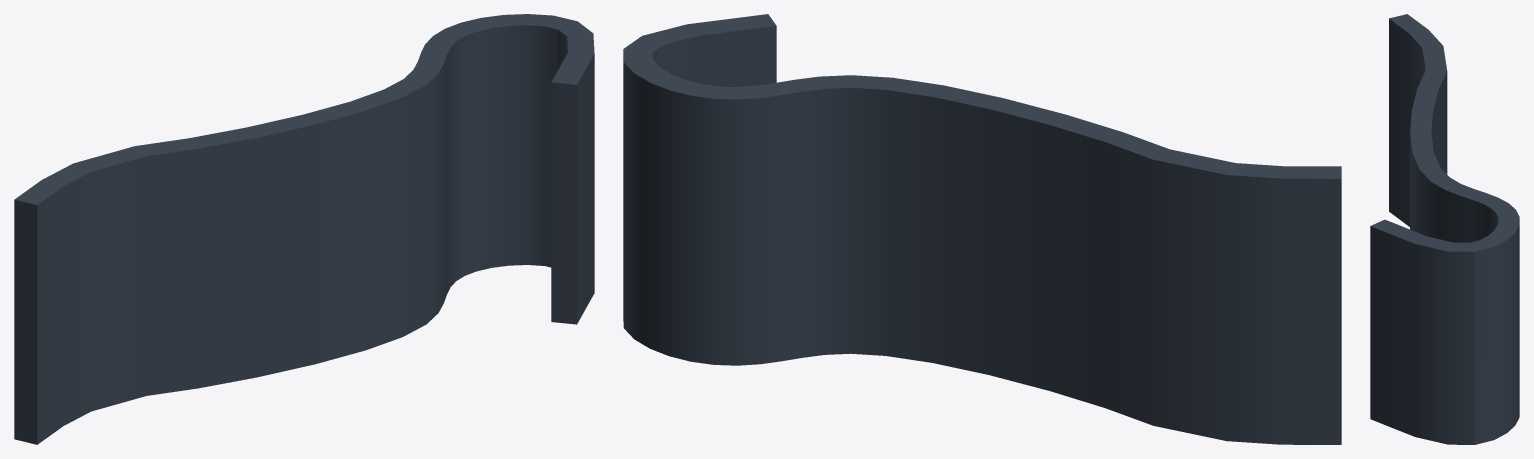
Rendered from SM_Port_Wall_02.fbx.
The picture shows the model from 3 angles, left to right: view 1: azimuth 30°, elevation 25°; view 2: azimuth 150°, elevation 25°; view 3: azimuth 270°, elevation 25°; orthographic projection. The views are drawn at different scales.
Visible parts, largest first — view 1: SM_Port_Wall_02; view 2: SM_Port_Wall_02; view 3: SM_Port_Wall_02.
Part boxes in pixels (bbox=[...]): SM_Port_Wall_02: bbox=[14, 14, 594, 444]; SM_Port_Wall_02: bbox=[623, 14, 1341, 444]; SM_Port_Wall_02: bbox=[1370, 14, 1519, 444].
Size of the model in its own units: 264 by 100 by 70.15.
